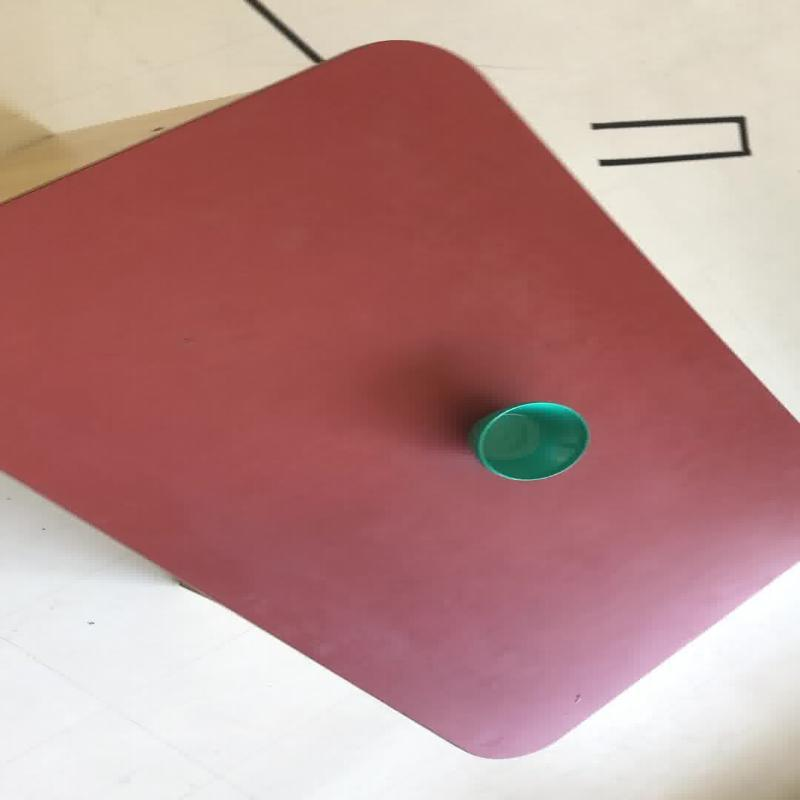bowl: (0, 37, 796, 759), (466, 400, 590, 481)
